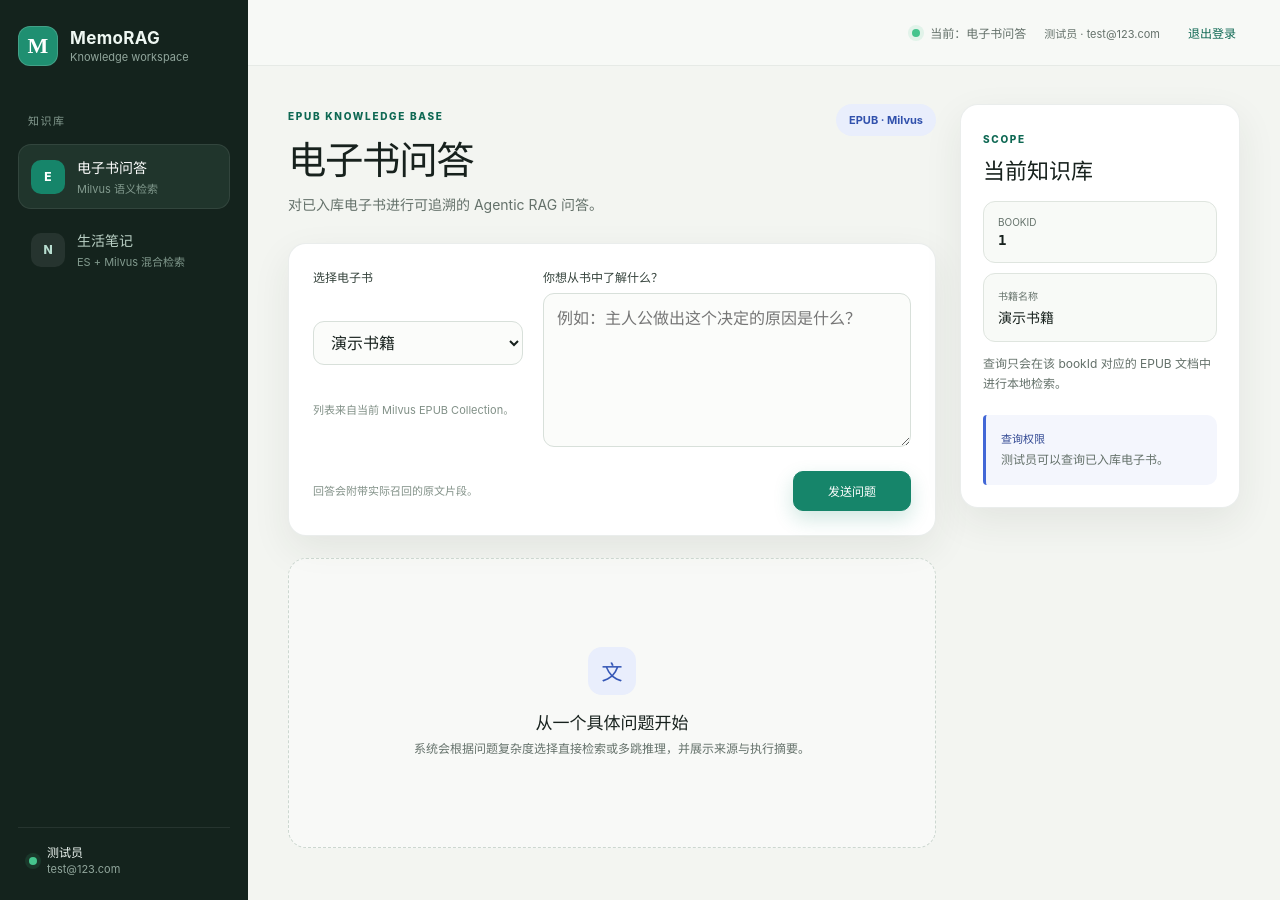
Test: life-notes page loads scoped notes, opens details, and retries failed sync
Step 1. Click the button "N 生活笔记 ES + Milvus 混合检索" → [124, 250], box [18,217,230,282]
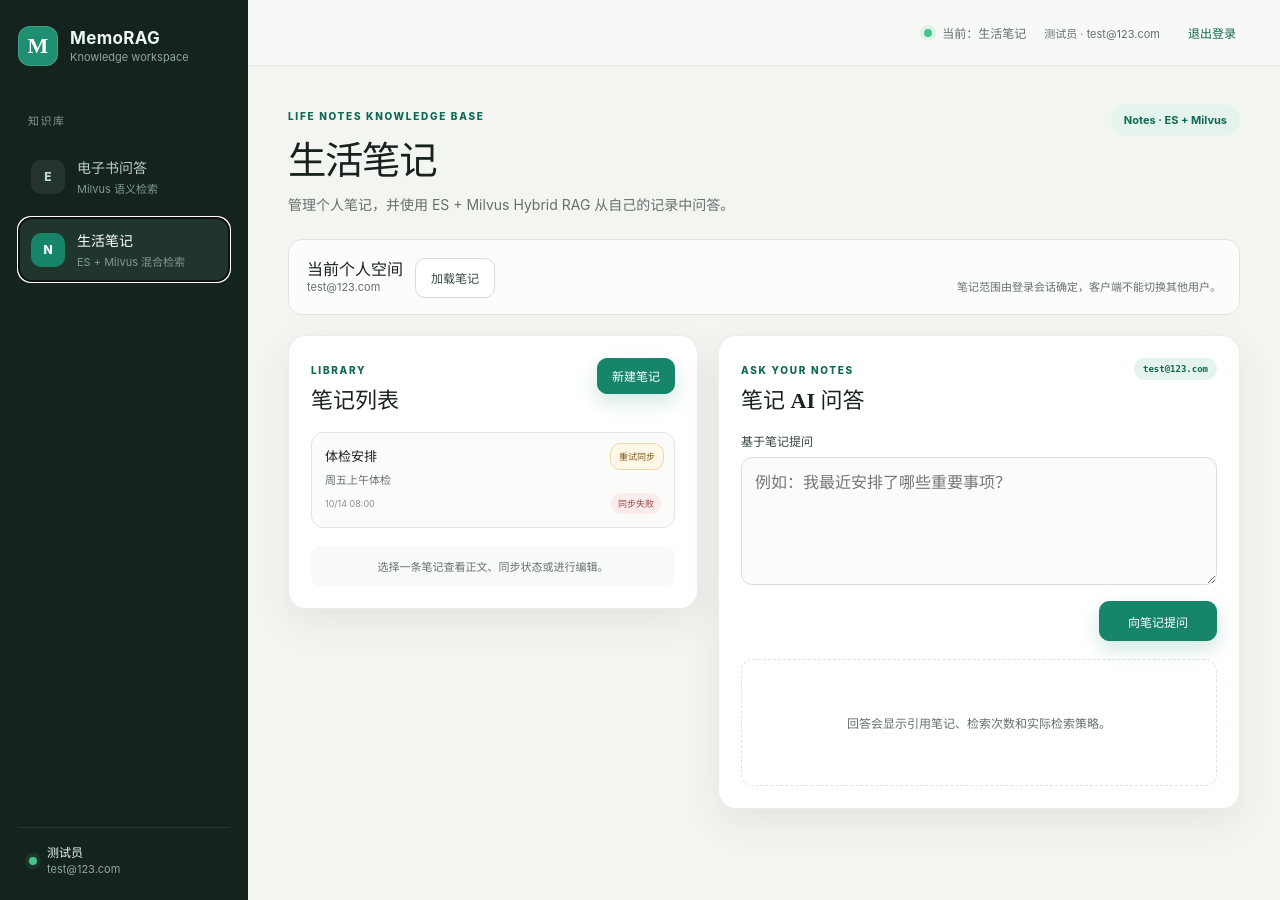
Check: the text "体检安排" is shown, box [325,448,377,464]
Check: the text "同步失败" is shown, box [611,493,661,514]
Step 2. Click the button "体检安排 周五上午体检 10/14 08:00 同步失败" → [351, 456], box [312,433,674,527]
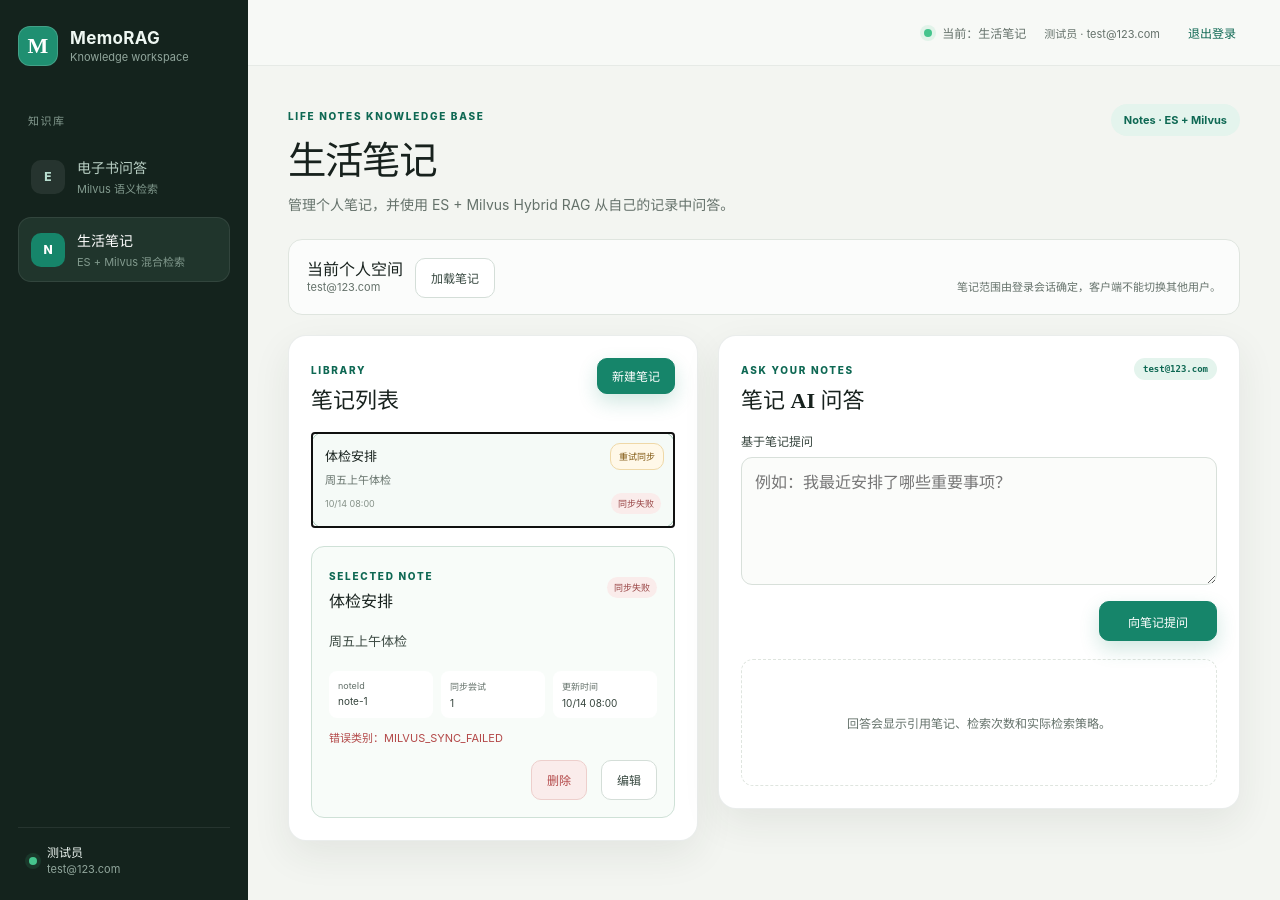
Check: the text "错误类别：MILVUS_SYNC_FAILED" is shown, box [329,730,503,744]
Step 3. Click the button "重试同步" → [637, 456], box [610,443,664,470]
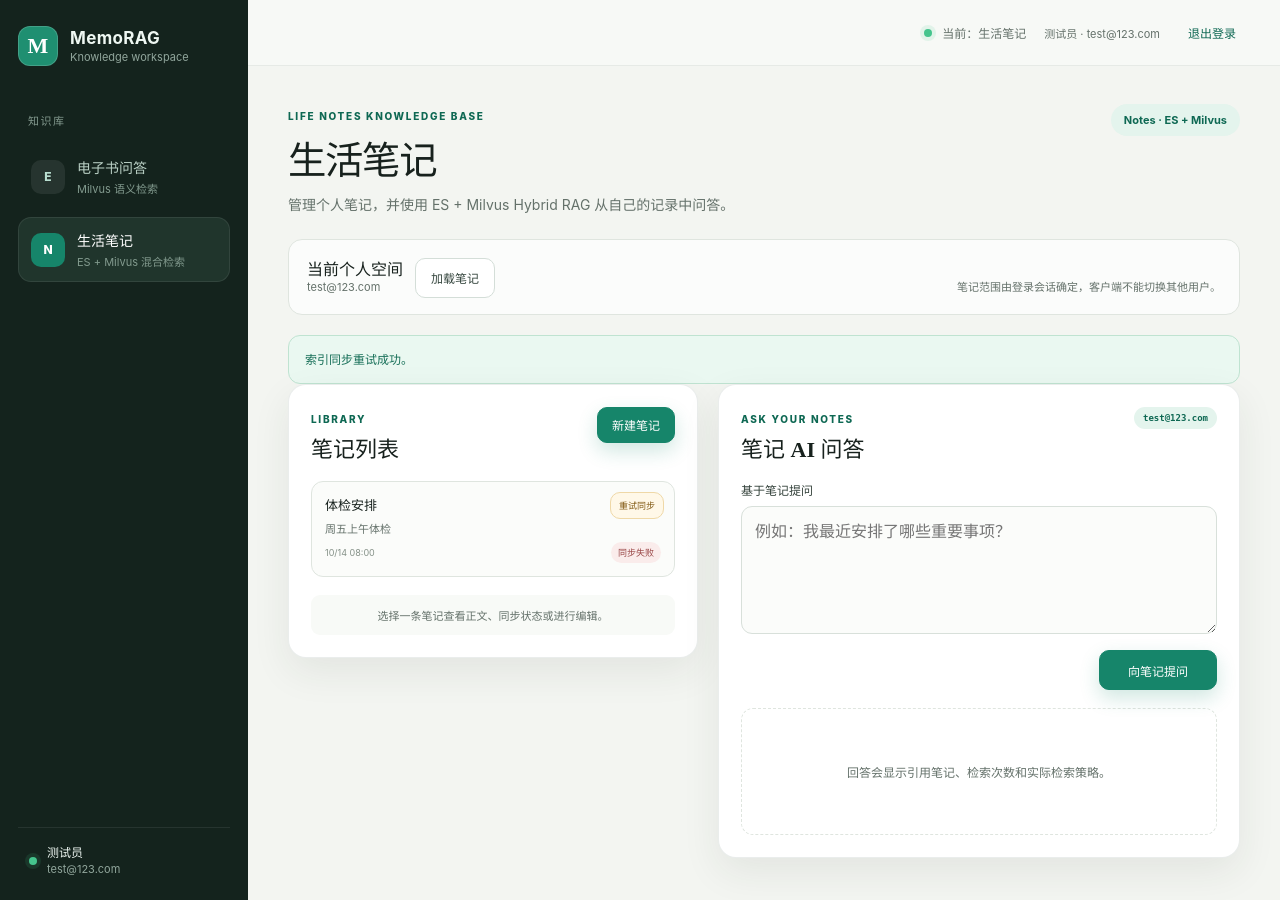
Check: the text "索引同步重试成功。" is shown, box [288,335,1240,384]
